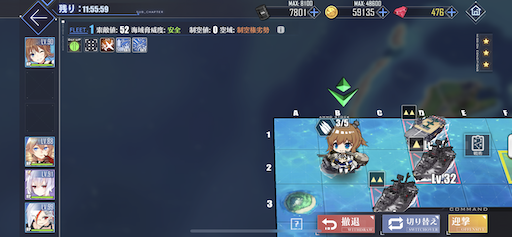lv1: (410, 140, 460, 182)
lv2: (365, 171, 414, 211), (401, 104, 447, 138)
